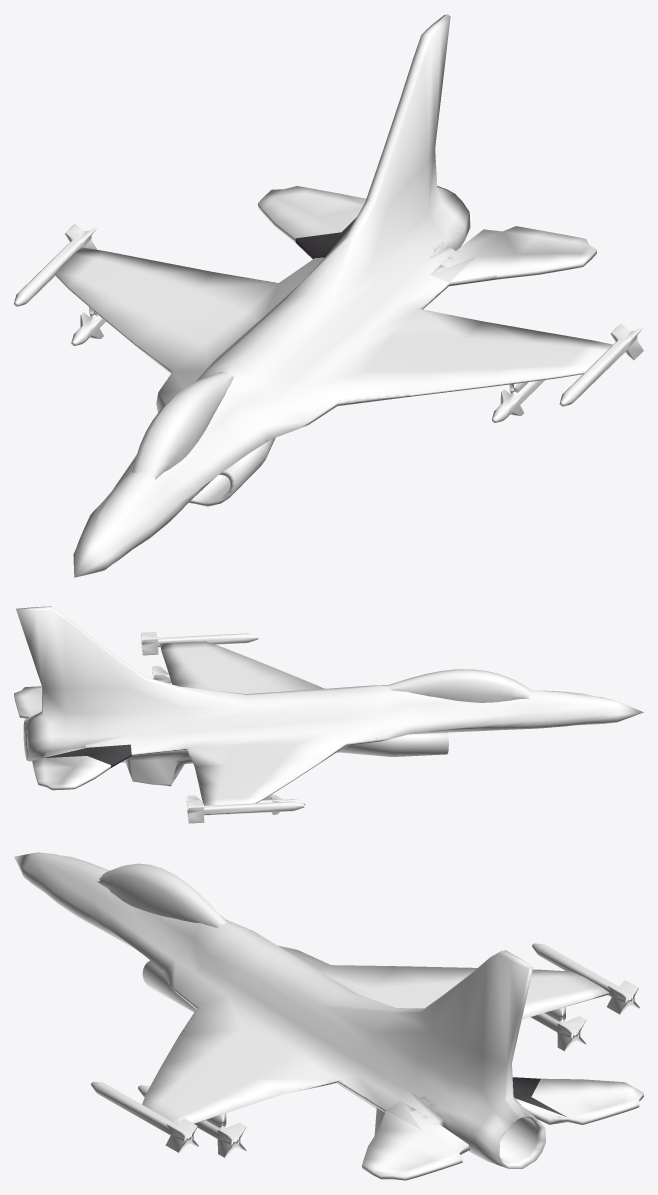
3 renders of one model, top to bottom at view 1: azimuth 30°, elevation 25°; view 2: azimuth 150°, elevation 25°; view 3: azimuth 270°, elevation 25°, orthographic. The views are drawn at different scales.
Parts seen in each view (by area): view 1: node_id8, node_id6, node_id12, node_id14, node_id10; view 2: node_id8, node_id6, node_id14, node_id12, node_id10; view 3: node_id8, node_id6, node_id12, node_id14, node_id10.
Part boxes in pixels (x1,y1,x2,y2): node_id8: (55,186,612,577); node_id6: (326,14,450,265); node_id12: (14,223,643,422); node_id14: (130,372,233,479); node_id10: (189,437,275,506); node_id8: (14,641,643,805); node_id6: (16,606,184,715); node_id14: (388,669,531,702); node_id12: (140,632,305,823); node_id10: (338,732,448,756); node_id8: (14,852,643,1180); node_id6: (375,950,533,1101); node_id12: (91,943,639,1157); node_id14: (97,863,228,927); node_id10: (142,960,195,1012).
Bounding box in the file's own units: 0.3489 × 0.1187 × 0.2847.
5 materials, 5 textured.
